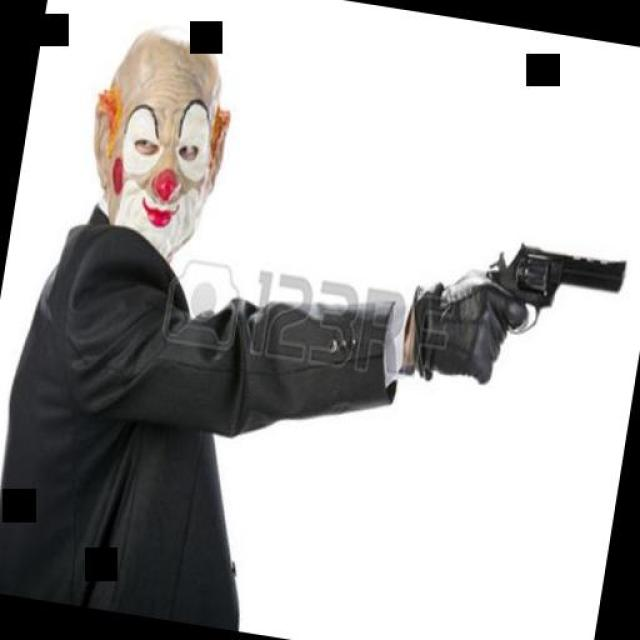gun: (454, 214, 630, 418)
